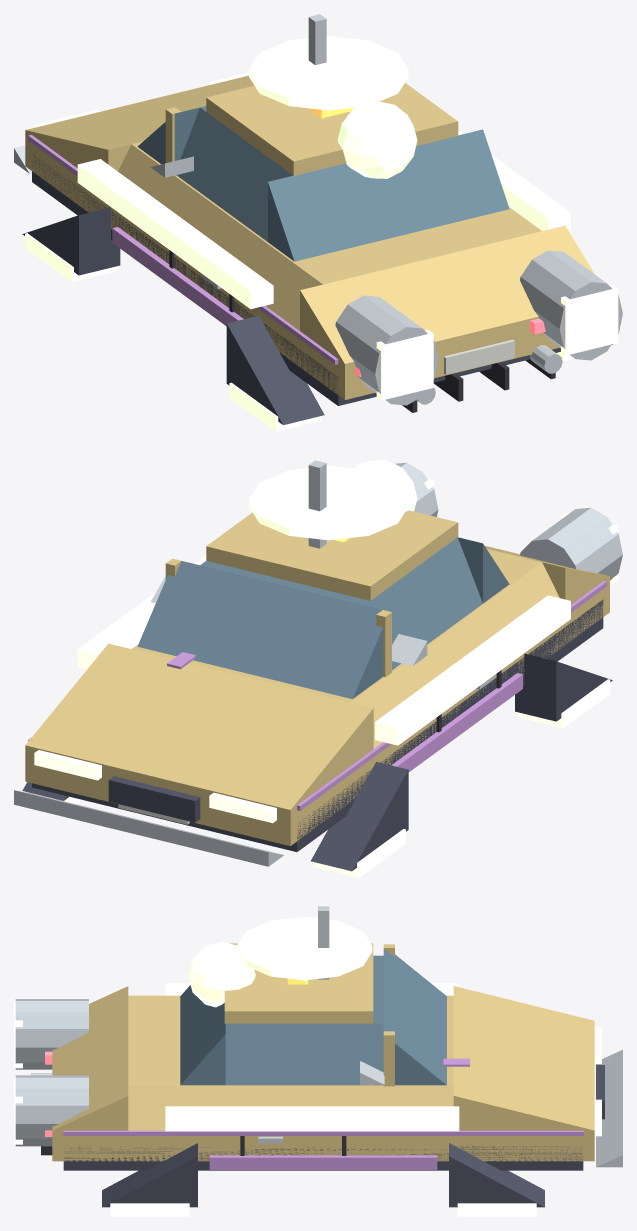
Rendered from ion_skimmer.glb.
3 views of the same model, one above another, from view 1: azimuth 30°, elevation 25°; view 2: azimuth 150°, elevation 25°; view 3: azimuth 270°, elevation 25° (orthographic). The views are drawn at different scales.
Visible parts, largest first — view 1: RearWindow.198, Tail.098, Body.298, Roof.298, HaloRing.009, FloatFin-1.040, ShoulderL.095, BodyUpper.095, CabinSideL.095, Nose.095, HoverPodWheel_RL.040, EnergyCore.040 (+16 smaller); view 2: Nose.095, Windshield.198, Roof.298, Body.298, HaloRing.009, FloatFin-1.040, ShoulderL.095, CabinSideL.095, Sill.294, HoverPodWheel_FL.040, Thruster-1.040, Bumper.294 (+18 smaller); view 3: Nose.095, Body.298, CabinSideR.095, ShoulderR.095, FloatFin1.040, Tail.098, Roof.298, Windshield.198, HaloRing.009, BodyUpper.095, Thruster1.040, Thruster-1.040 (+15 smaller).
Part boxes in pixels (x1,y1,x2,y2): RearWindow.198: [268, 129, 509, 261]; Tail.098: [300, 225, 594, 363]; Body.298: [25, 130, 559, 399]; Roof.298: [206, 83, 458, 175]; HaloRing.009: [249, 36, 408, 110]; FloatFin-1.040: [77, 159, 273, 309]; ShoulderL.095: [118, 144, 322, 330]; BodyUpper.095: [131, 141, 541, 284]; CabinSideL.095: [176, 107, 292, 241]; Nose.095: [25, 75, 254, 171]; HoverPodWheel_RL.040: [226, 315, 324, 424]; EnergyCore.040: [337, 102, 417, 178]; Nose.095: [25, 643, 373, 809]; Windshield.198: [137, 561, 383, 698]; Roof.298: [206, 510, 458, 600]; Body.298: [25, 576, 609, 846]; HaloRing.009: [249, 465, 408, 540]; FloatFin-1.040: [375, 595, 570, 745]; ShoulderL.095: [351, 562, 559, 748]; CabinSideL.095: [364, 537, 482, 669]; Sill.294: [32, 599, 603, 851]; HoverPodWheel_FL.040: [311, 762, 408, 871]; Thruster-1.040: [520, 507, 622, 580]; Bumper.294: [14, 790, 283, 866]; Nose.095: [453, 986, 594, 1130]; Body.298: [52, 1130, 594, 1161]; CabinSideR.095: [225, 1023, 383, 1085]; ShoulderR.095: [128, 1086, 453, 1130]; FloatFin1.040: [165, 1106, 459, 1131]; Tail.098: [52, 986, 128, 1130]; Roof.298: [224, 943, 373, 1023]; Windshield.198: [383, 948, 446, 1085]; HaloRing.009: [236, 917, 372, 980]; BodyUpper.095: [128, 995, 453, 1086]; Thruster1.040: [15, 1075, 88, 1146]; Thruster-1.040: [15, 999, 88, 1069].
Bounding box in the file's own units: 2.9 × 2.33 × 5.39.
